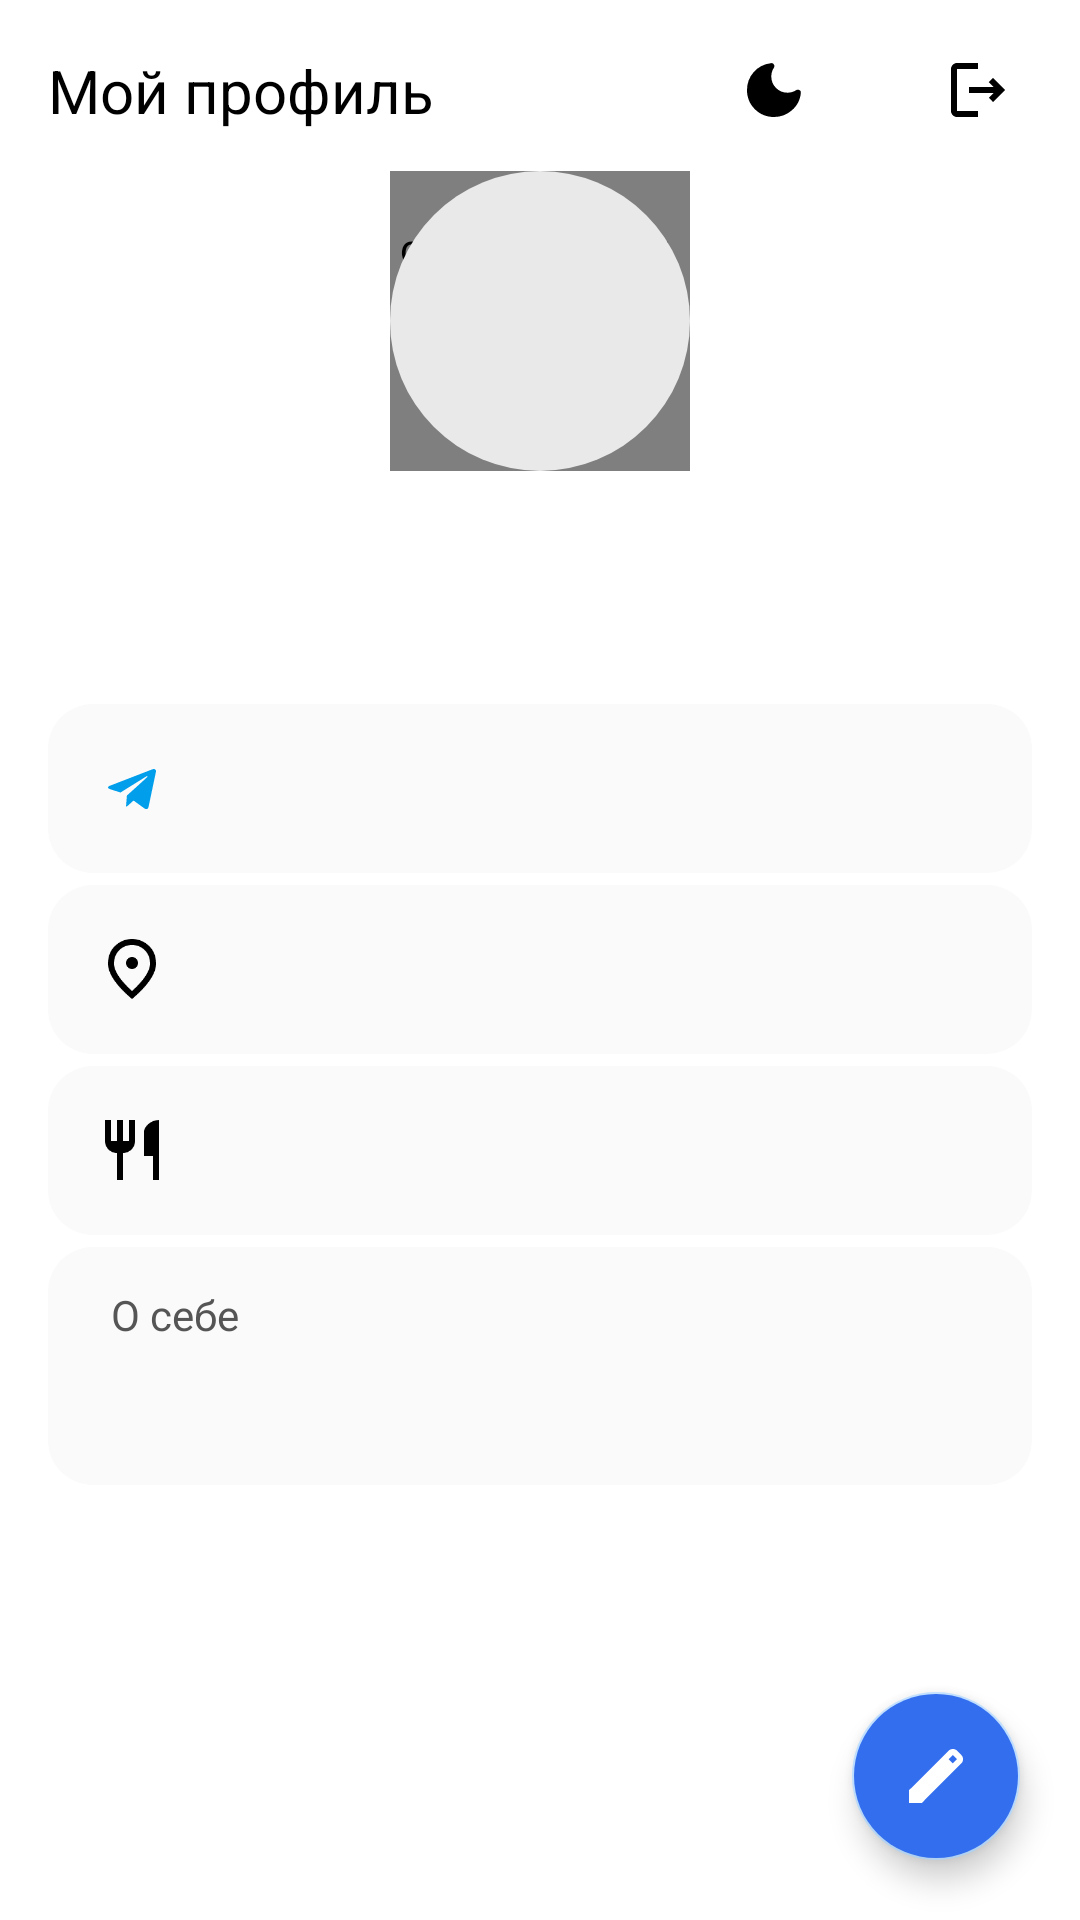

Screen size 1080*1920. Icon name, then its box in pixels as rect(x1, y1, x2, y2):
edit: rect(852, 1692, 1020, 1860)
theme: rect(747, 63, 801, 117)
